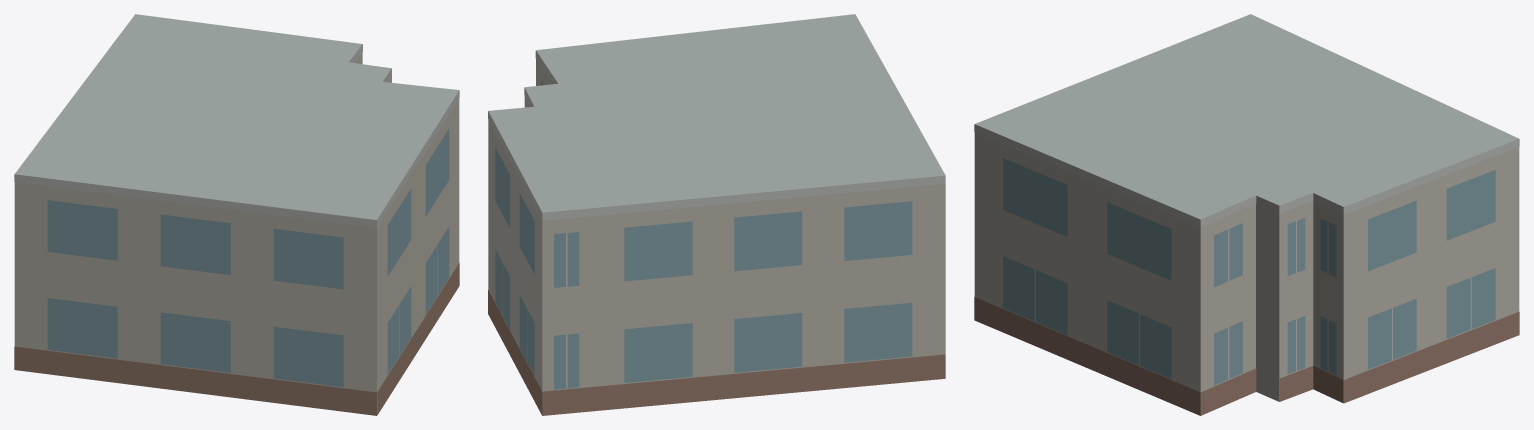
The model's file is survey-upis-33023951.glb.
The picture shows the model from 3 angles, left to right: view 1: azimuth 30°, elevation 25°; view 2: azimuth 150°, elevation 25°; view 3: azimuth 270°, elevation 25°; orthographic projection. The views are drawn at different scales.
Visible parts, largest first — view 1: survey-upis-33023951.tmp; view 2: survey-upis-33023951.tmp; view 3: survey-upis-33023951.tmp.
Part boxes in pixels (<box>): survey-upis-33023951.tmp: <box>14,14,459,415</box>; survey-upis-33023951.tmp: <box>488,14,945,415</box>; survey-upis-33023951.tmp: <box>974,14,1519,415</box>.
Size of the model in its own units: 13.7 by 6.1 by 15.35.
